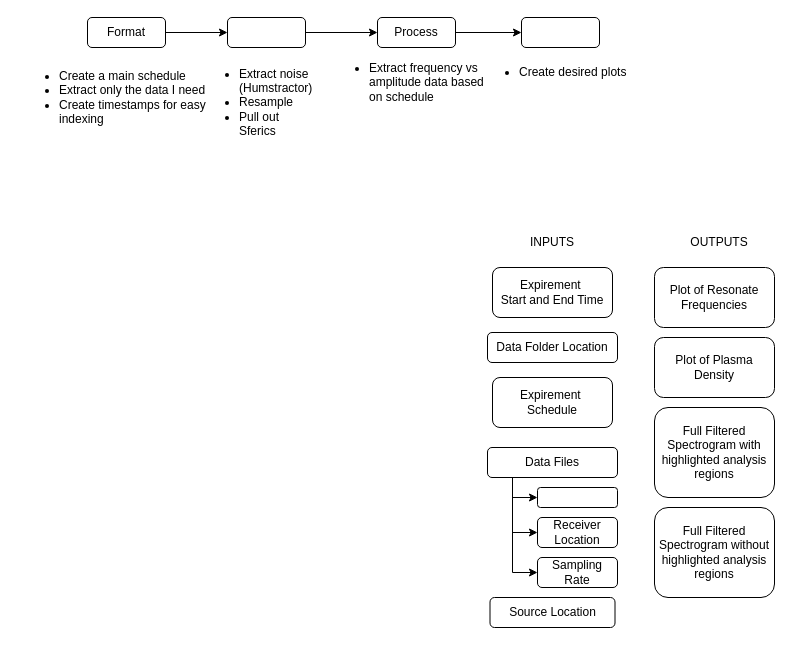
This 792x645 diagram has some shape labels left out. Here are the shapes that lost their labels. From the top down, the centre of each, then its label:
point (266, 32): PreProcess
point (560, 32): Plot
point (577, 497): Raw Data
